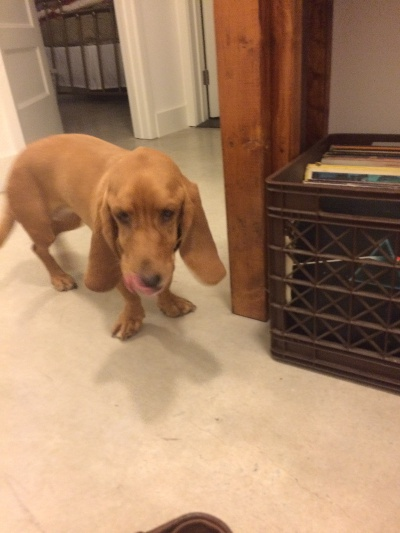daisy: (80, 148, 229, 306)
